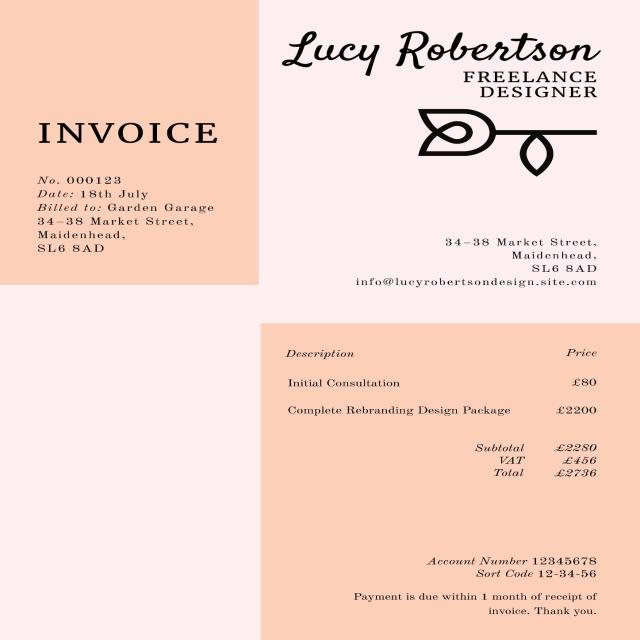paragraph: (278, 336, 615, 426), (273, 25, 619, 101), (347, 223, 613, 295), (408, 105, 606, 180), (34, 202, 219, 256), (16, 106, 230, 152), (349, 588, 620, 622), (420, 548, 621, 581), (465, 437, 602, 482), (36, 171, 132, 186), (35, 188, 155, 200)
